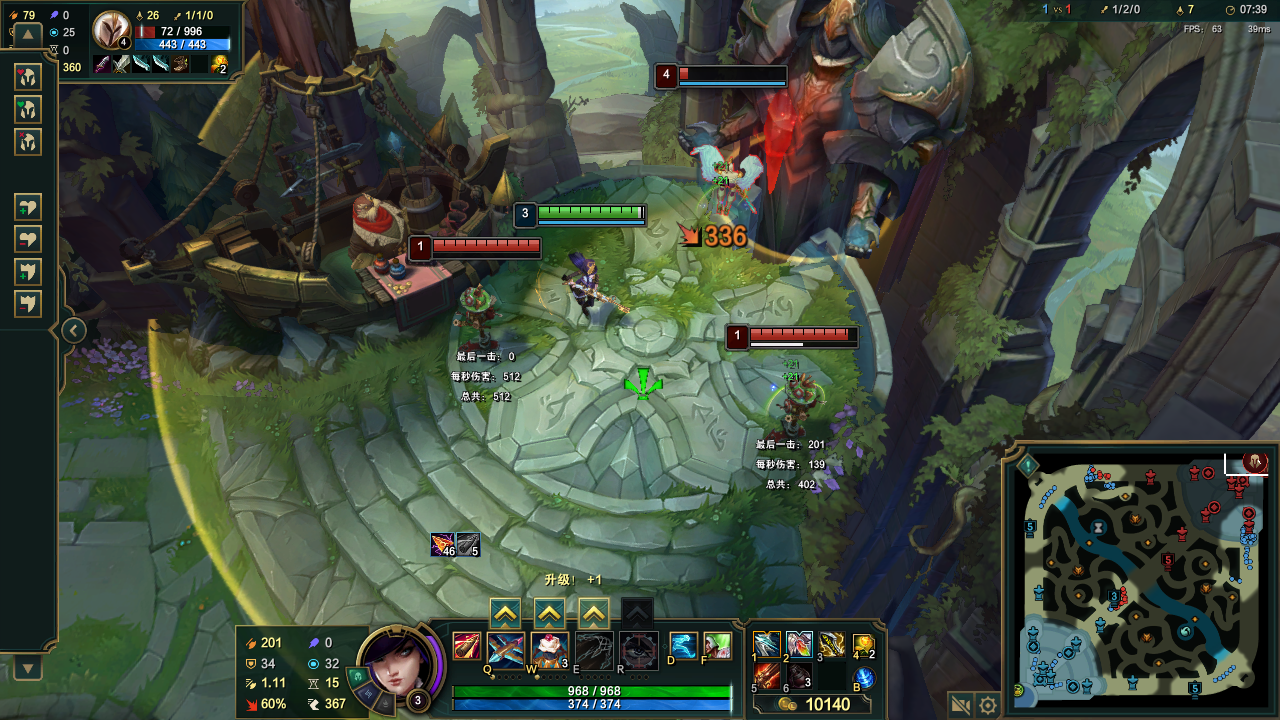DFYX: (677, 63, 788, 82), (748, 327, 861, 342), (430, 237, 542, 250)
